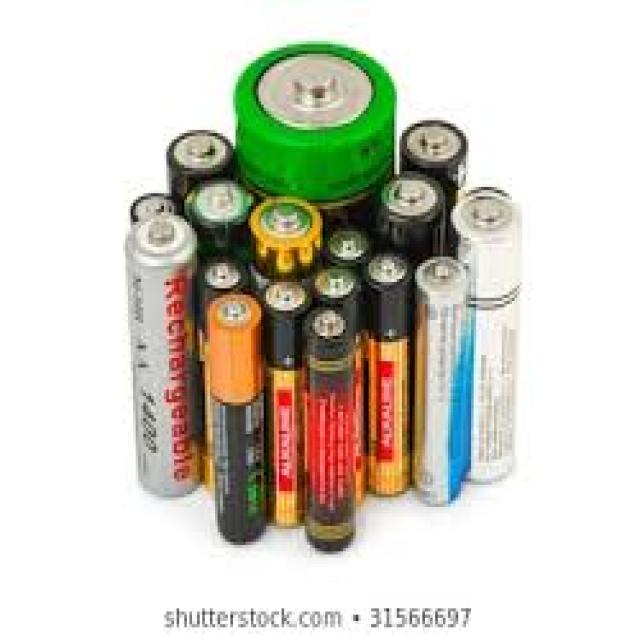battery: (131, 44, 512, 548)
